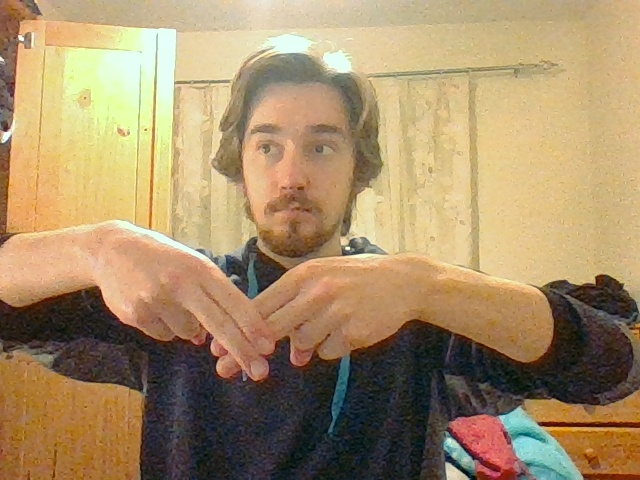father: (193, 271, 310, 382)
